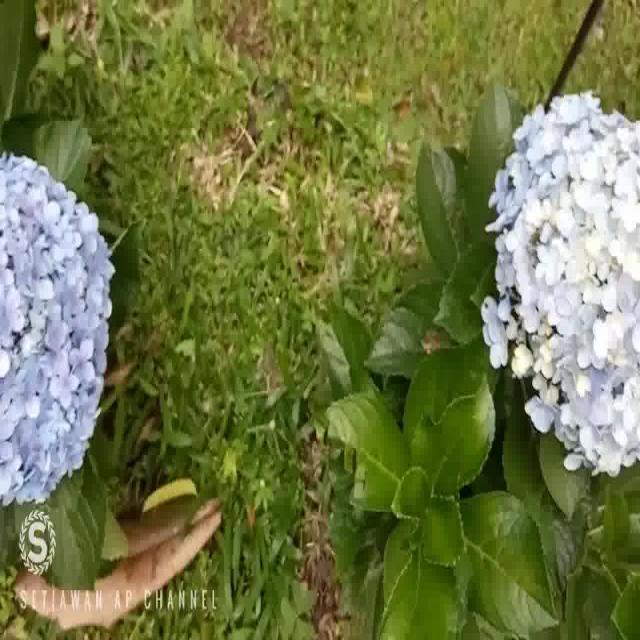Flower: (492, 89, 640, 482), (1, 151, 113, 510)
